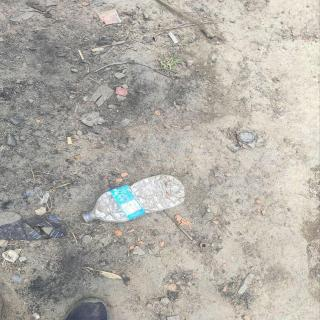Plastic-bottle: (80, 172, 189, 226)
